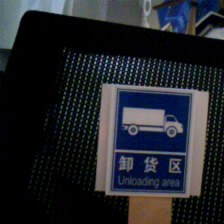unload: (99, 81, 191, 196)
